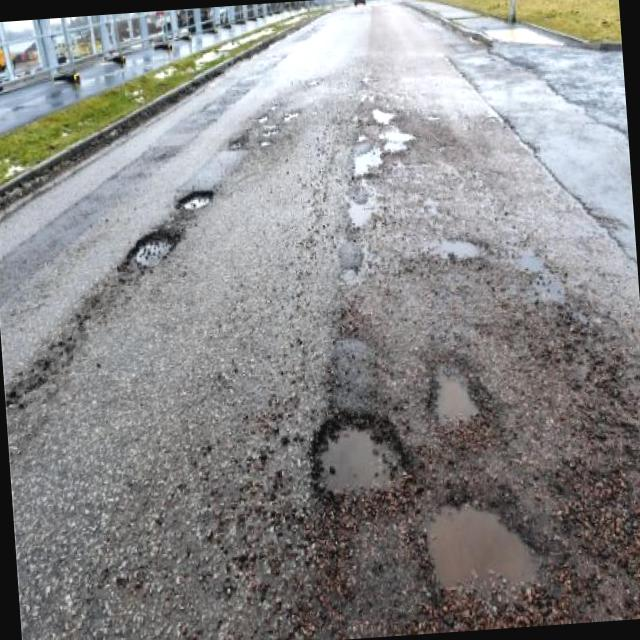pothole: (412, 480, 552, 617), (298, 400, 416, 508), (416, 346, 486, 434), (115, 218, 183, 274), (170, 180, 216, 210)
